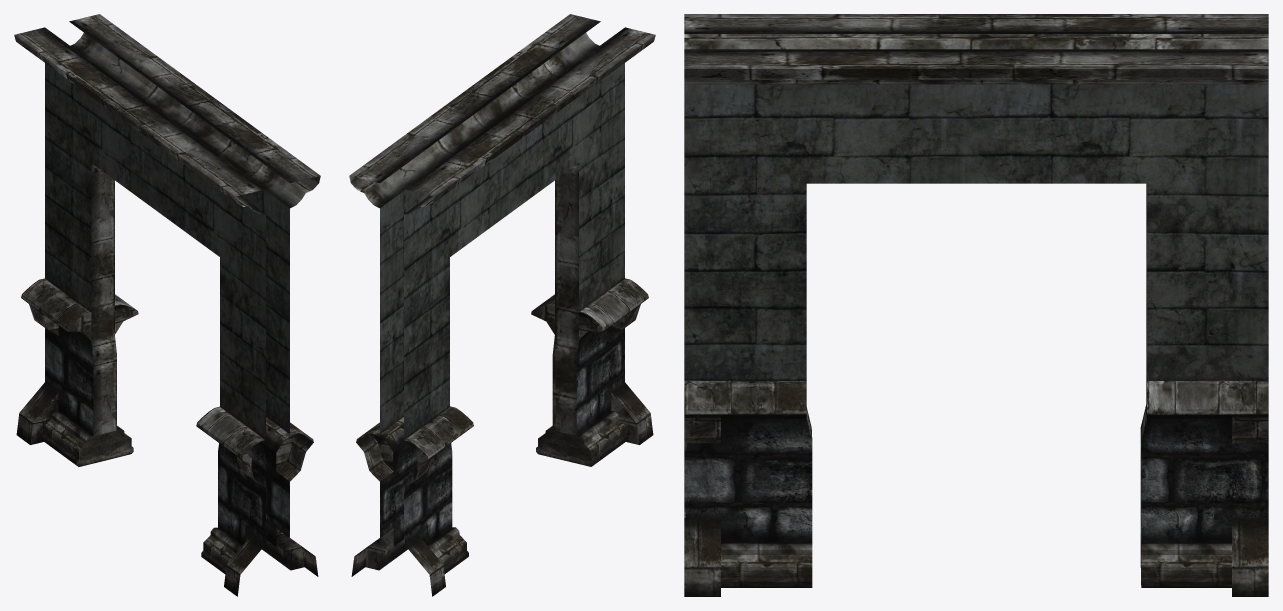
The model's file is door_way_secret_alt.dae.
3 renders of one model, left to right at view 1: azimuth 30°, elevation 25°; view 2: azimuth 150°, elevation 25°; view 3: azimuth 270°, elevation 25°, orthographic. The views are drawn at different scales.
Visible parts, largest first — view 1: polySurface125; view 2: polySurface125; view 3: polySurface125.
Part boxes in pixels (x1=…): polySurface125: x1=14, y1=14, x2=320, y2=596; polySurface125: x1=349, y1=14, x2=655, y2=596; polySurface125: x1=684, y1=14, x2=1268, y2=596.
Bounding box in the file's own units: 0.8938 × 4 × 4.
1 material, 1 textured.
